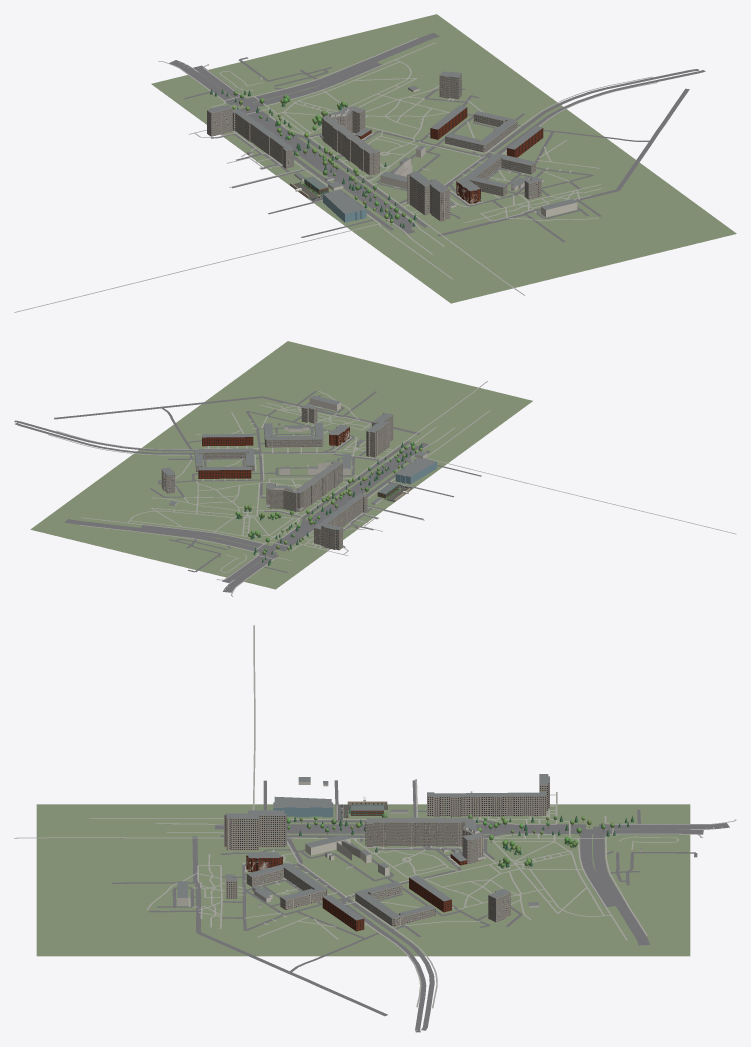
The model's file is общага.glb.
3 renders of one model, top to bottom at view 1: azimuth 30°, elevation 25°; view 2: azimuth 150°, elevation 25°; view 3: azimuth 270°, elevation 25°, orthographic. The views are drawn at different scales.
Parts seen in each view (by area): view 1: Комната и двор; view 2: Комната и двор; view 3: Комната и двор.
Part boxes in pixels (left/top/right/bottom): Комната и двор: left=14, top=14, right=736, bottom=312; Комната и двор: left=14, top=341, right=736, bottom=596; Комната и двор: left=14, top=625, right=736, bottom=1032.
Bounding box in the file's own units: 1326 × 48.1 × 996.
246 materials, 17 textured.
